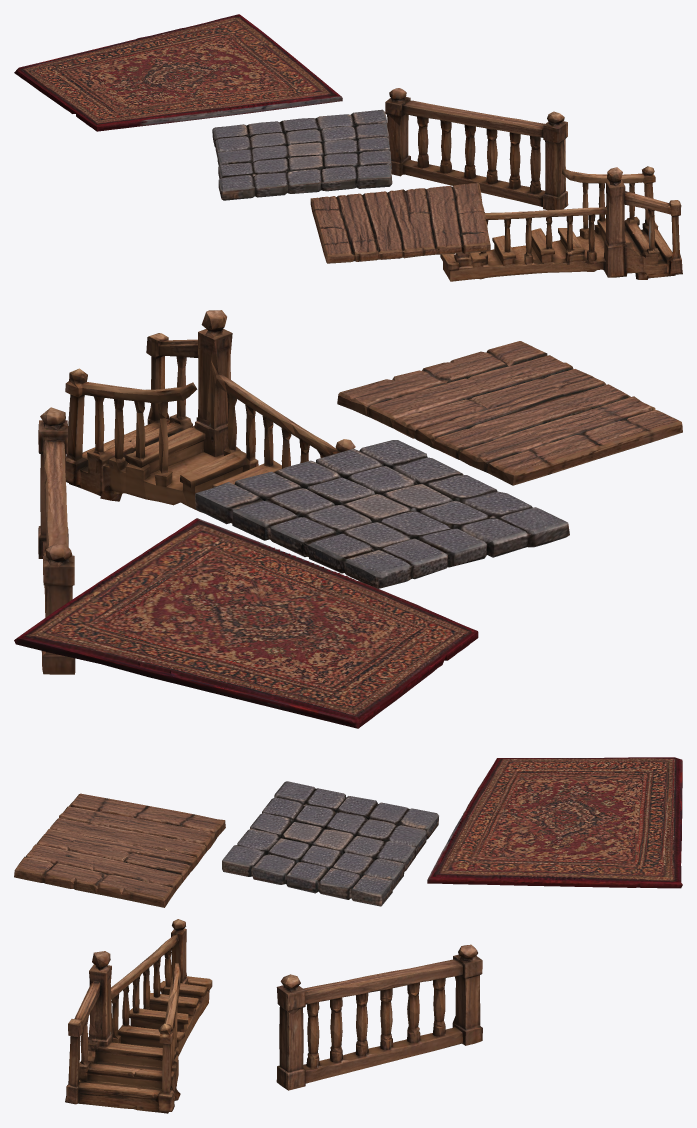
The model's file is tripo_convert_8e959613-8e27-4fc7-8a93-2fa82f5b542e.obj.
The picture shows the model from 3 angles, top to bottom: view 1: azimuth 30°, elevation 25°; view 2: azimuth 150°, elevation 25°; view 3: azimuth 270°, elevation 25°; orthographic projection. The views are drawn at different scales.
Parts seen in each view (by area): view 1: tripo_part_0, tripo_part_4, tripo_part_1, tripo_part_2, tripo_part_3, tripo_part_5, tripo_part_6, tripo_part_7; view 2: tripo_part_0, tripo_part_4, tripo_part_1, tripo_part_3, tripo_part_6, tripo_part_2, tripo_part_5, tripo_part_7; view 3: tripo_part_0, tripo_part_4, tripo_part_1, tripo_part_2, tripo_part_3, tripo_part_7, tripo_part_5, tripo_part_6.
Part boxes in pixels (box(x1,y1,x2,y2)): tripo_part_0: box(14, 14, 342, 131); tripo_part_4: box(212, 109, 392, 200); tripo_part_1: box(310, 183, 490, 263); tripo_part_2: box(385, 88, 568, 210); tripo_part_3: box(440, 207, 607, 281); tripo_part_5: box(602, 167, 682, 277); tripo_part_6: box(562, 166, 657, 238); tripo_part_7: box(594, 218, 675, 278); tripo_part_0: box(14, 518, 478, 728); tripo_part_4: box(195, 440, 569, 588); tripo_part_1: box(337, 341, 682, 485); tripo_part_3: box(144, 375, 355, 557); tripo_part_6: box(65, 368, 197, 501); tripo_part_2: box(38, 407, 75, 674); tripo_part_5: box(146, 310, 232, 456); tripo_part_7: box(69, 418, 207, 501); tripo_part_0: box(427, 757, 682, 888); tripo_part_4: box(222, 781, 438, 906); tripo_part_1: box(14, 793, 225, 907); tripo_part_2: box(276, 944, 482, 1090); tripo_part_3: box(111, 919, 212, 1056); tripo_part_7: box(78, 1037, 178, 1113); tripo_part_5: box(65, 951, 117, 1104); tripo_part_6: box(158, 963, 181, 1111).
Bounding box in the file's own units: 0.811 × 0.2117 × 0.9799.
Materials: 1 (1 with a texture image).
